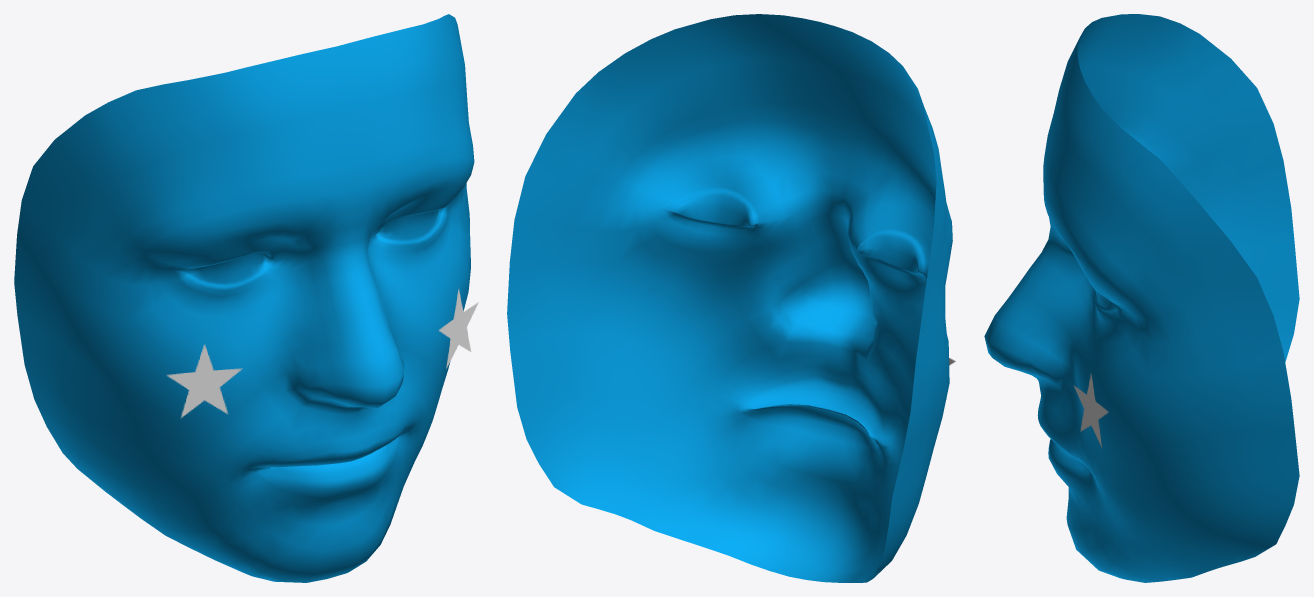
Rendered from star face.glb.
3 views of the same model, side by side, from view 1: azimuth 30°, elevation 25°; view 2: azimuth 150°, elevation 25°; view 3: azimuth 270°, elevation 25° (orthographic). The views are drawn at different scales.
Parts seen in each view (by area): view 1: node_id3, mesh_id47, mesh_id40; view 2: node_id3; view 3: node_id3, mesh_id40.
Boxes of the visible parts, x1=… form: node_id3: x1=14, y1=14, x2=474, y2=582; mesh_id47: x1=166, y1=344, x2=242, y2=417; mesh_id40: x1=439, y1=289, x2=478, y2=368; node_id3: x1=507, y1=14, x2=952, y2=582; node_id3: x1=984, y1=14, x2=1299, y2=582; mesh_id40: x1=1074, y1=373, x2=1108, y2=448.
Size of the model in its own units: 0.4097 by 0.512 by 0.2842.
Materials: 3 (3 with a texture image).
